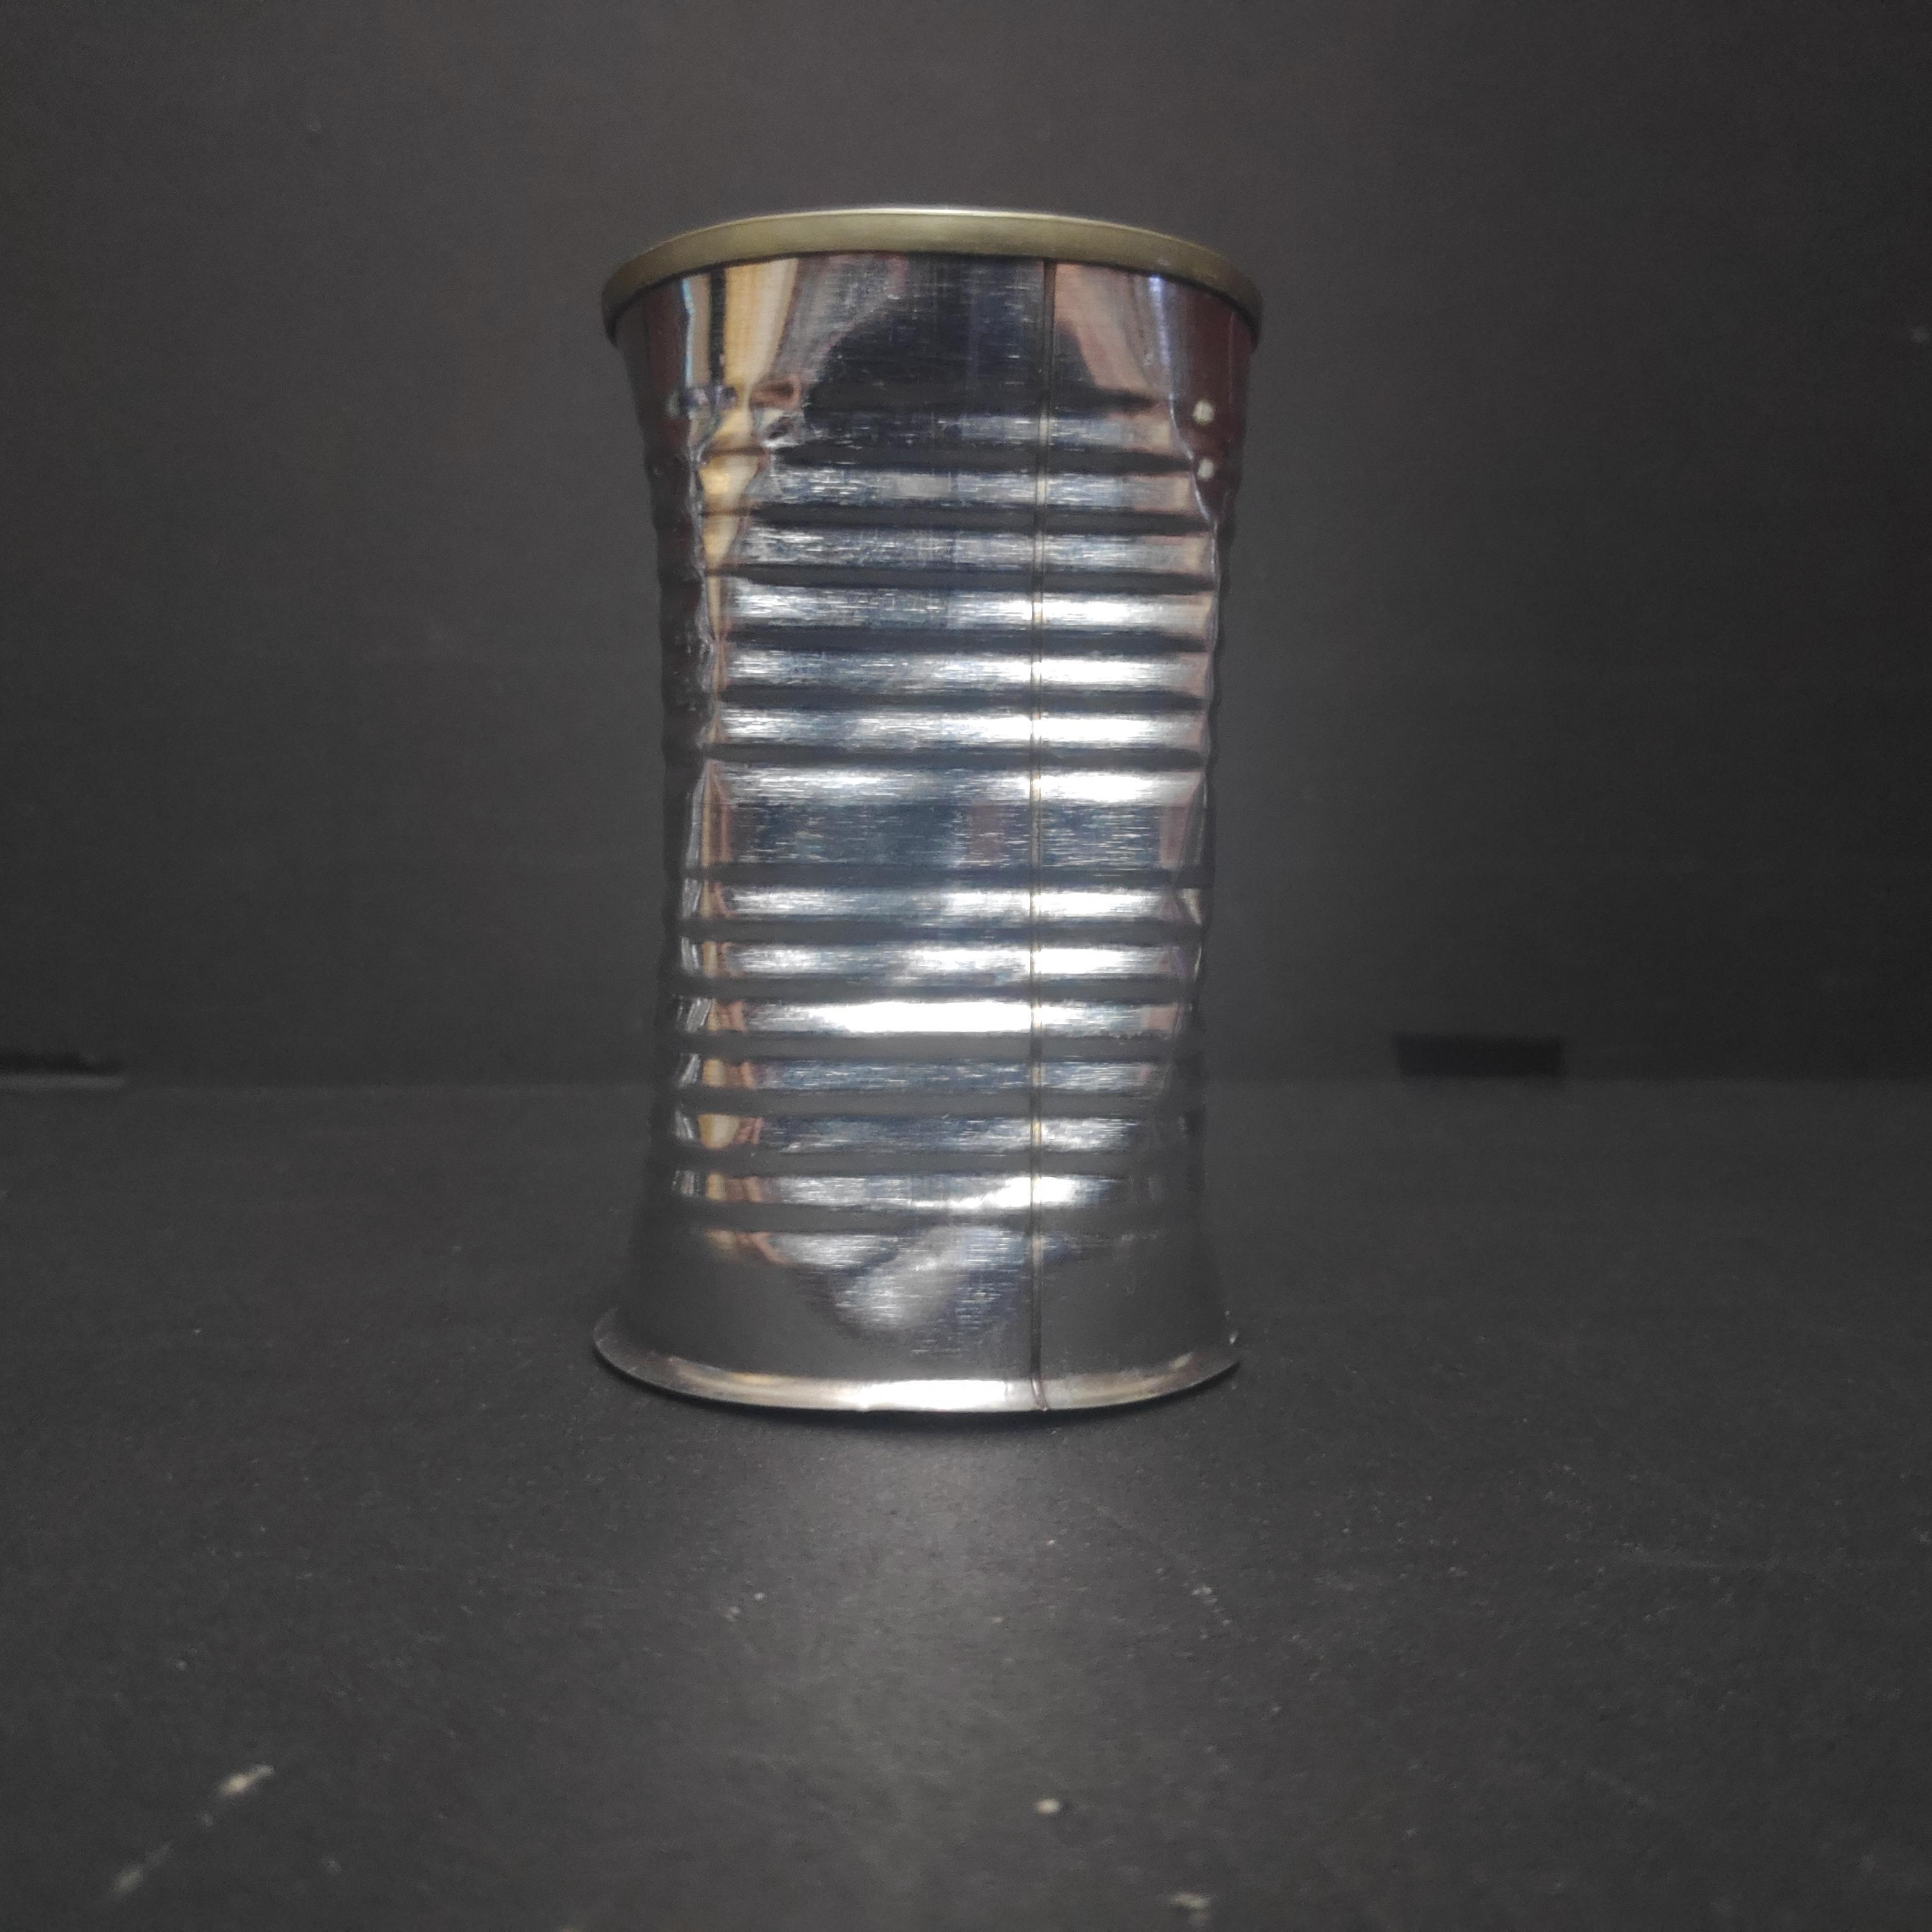Dented: (553, 166, 1281, 1428)
